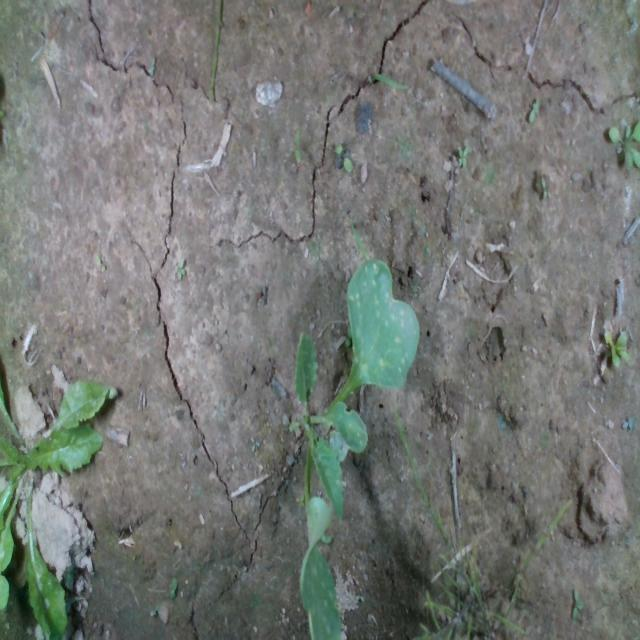weed: (602, 327, 628, 369), (333, 142, 353, 174), (571, 582, 584, 620), (292, 126, 302, 166), (166, 574, 178, 601), (174, 255, 186, 280), (528, 95, 539, 122), (620, 413, 634, 433), (457, 145, 469, 167)
